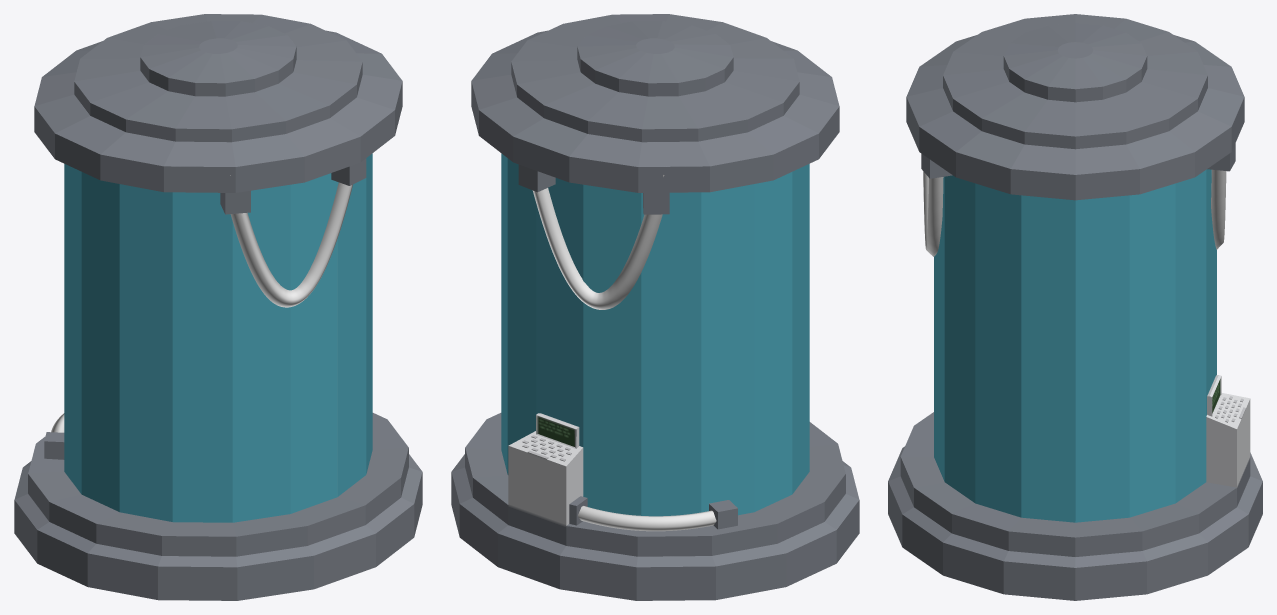
The model's file is Tank-GlassDetached.fbx.
3 views of the same model, side by side, from view 1: azimuth 30°, elevation 25°; view 2: azimuth 150°, elevation 25°; view 3: azimuth 270°, elevation 25° (orthographic). The views are drawn at different scales.
Visible parts, largest first — view 1: Tank Glass, Tank, Catenary.001; view 2: Tank, Tank Glass, Catenary, Catenary.002; view 3: Tank Glass, Tank, Catenary.001, Catenary.
Part boxes in pixels (bbox=[...]): Tank Glass: bbox=[64, 153, 372, 522]; Tank: bbox=[14, 14, 422, 600]; Catenary.001: bbox=[230, 175, 352, 307]; Tank: bbox=[451, 14, 859, 600]; Tank Glass: bbox=[501, 153, 809, 516]; Catenary: bbox=[532, 175, 664, 309]; Catenary.002: bbox=[578, 506, 716, 531]; Tank Glass: bbox=[934, 169, 1216, 522]; Tank: bbox=[888, 14, 1262, 600]; Catenary.001: bbox=[923, 171, 943, 256]; Catenary: bbox=[1211, 169, 1226, 249].
Size of the model in its own units: 227 by 283 by 207.
Materials: 3 (2 with a texture image).
